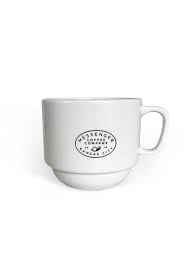mug: (35, 84, 179, 190)
